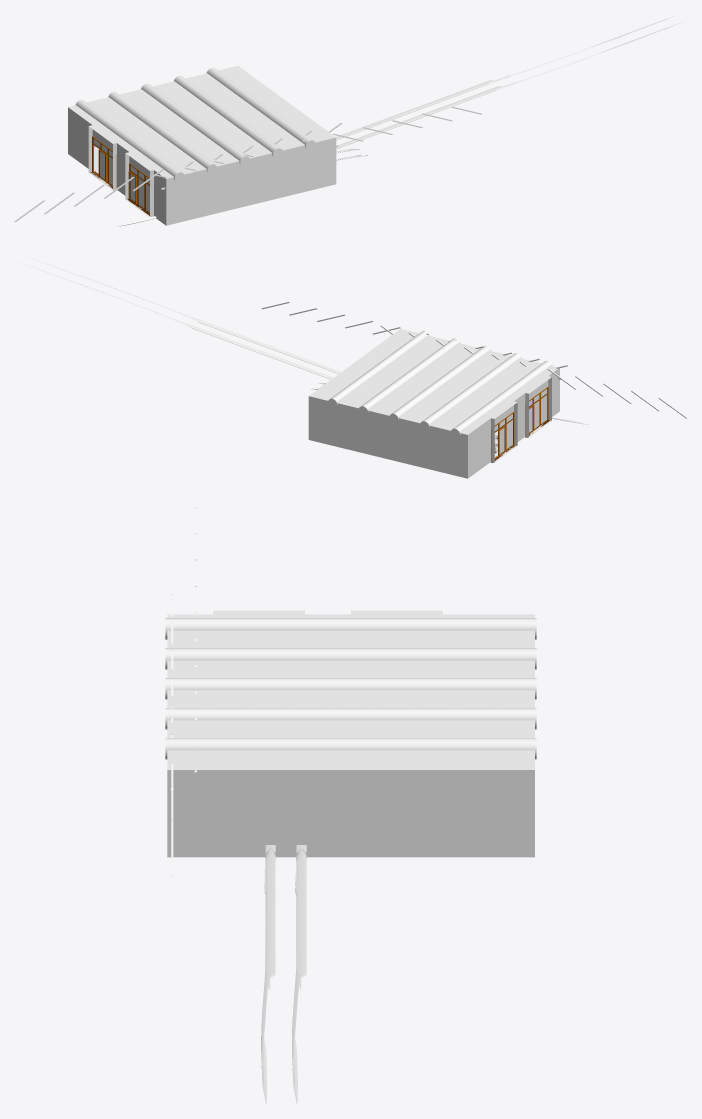
The model's file is gym.glb.
3 renders of one model, top to bottom at view 1: azimuth 30°, elevation 25°; view 2: azimuth 150°, elevation 25°; view 3: azimuth 270°, elevation 25°, orthographic. The views are drawn at different scales.
Visible parts, largest first — view 1: Cube, Cylinder.144, Cylinder.148, Cylinder.149, Cylinder.145, Cylinder.146, Window.000, Window.004, Cube.032, Cube.017, Cube.052, Cube.053 (+2 smaller); view 2: Cube, Cylinder.144, Cylinder.149, Cylinder.145, Cylinder.146, Cylinder.148, Window.000, Window.004, Cube.032, Cube.017, Cube.052, Cube.053; view 3: Cube, Cylinder.148, Cylinder.144, Cylinder.149, Cylinder.145, Cylinder.146, Cube.017, Cube.032.
Part boxes in pixels (left/top/right/bottom): Cube: left=68, top=65, right=336, bottom=225; Cylinder.144: left=75, top=99, right=184, bottom=182; Cylinder.148: left=206, top=67, right=315, bottom=150; Cylinder.149: left=174, top=75, right=282, bottom=158; Cylinder.145: left=108, top=91, right=217, bottom=174; Cylinder.146: left=141, top=83, right=249, bottom=166; Window.000: left=127, top=163, right=149, bottom=215; Window.004: left=90, top=136, right=116, bottom=188; Cube.032: left=336, top=86, right=502, bottom=149; Cube.017: left=336, top=80, right=494, bottom=140; Cube.052: left=14, top=122, right=342, bottom=221; Cube.053: left=154, top=106, right=481, bottom=177; Cube: left=308, top=329, right=559, bottom=478; Cylinder.144: left=450, top=360, right=552, bottom=438; Cylinder.149: left=358, top=338, right=460, bottom=416; Cylinder.145: left=420, top=353, right=521, bottom=431; Cylinder.146: left=389, top=345, right=491, bottom=423; Cylinder.148: left=328, top=330, right=429, bottom=408; Window.000: left=525, top=386, right=549, bottom=437; Window.004: left=491, top=412, right=515, bottom=462; Cube.032: left=193, top=318, right=340, bottom=373; Cube.017: left=185, top=324, right=333, bottom=379; Cube.052: left=380, top=325, right=687, bottom=418; Cube.053: left=261, top=301, right=568, bottom=368; Cube: left=167, top=610, right=534, bottom=857; Cylinder.148: left=165, top=738, right=536, bottom=759; Cylinder.144: left=165, top=618, right=536, bottom=639; Cylinder.149: left=165, top=708, right=536, bottom=729; Cylinder.145: left=165, top=648, right=536, bottom=669; Cylinder.146: left=165, top=678, right=536, bottom=699; Cube.017: left=296, top=848, right=306, bottom=977; Cube.032: left=265, top=848, right=275, bottom=977.
Size of the model in its own units: 42.45 by 3.42 by 10.53.
